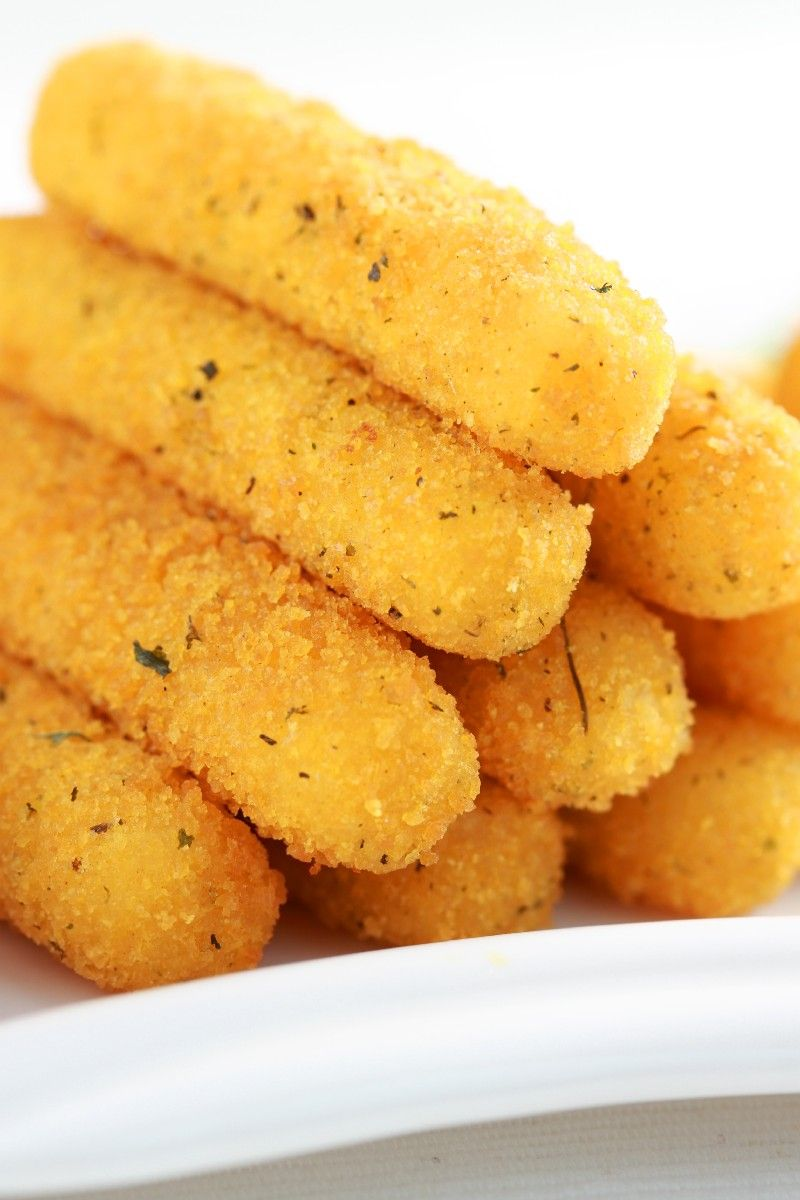cheese: (87, 118, 762, 830)
